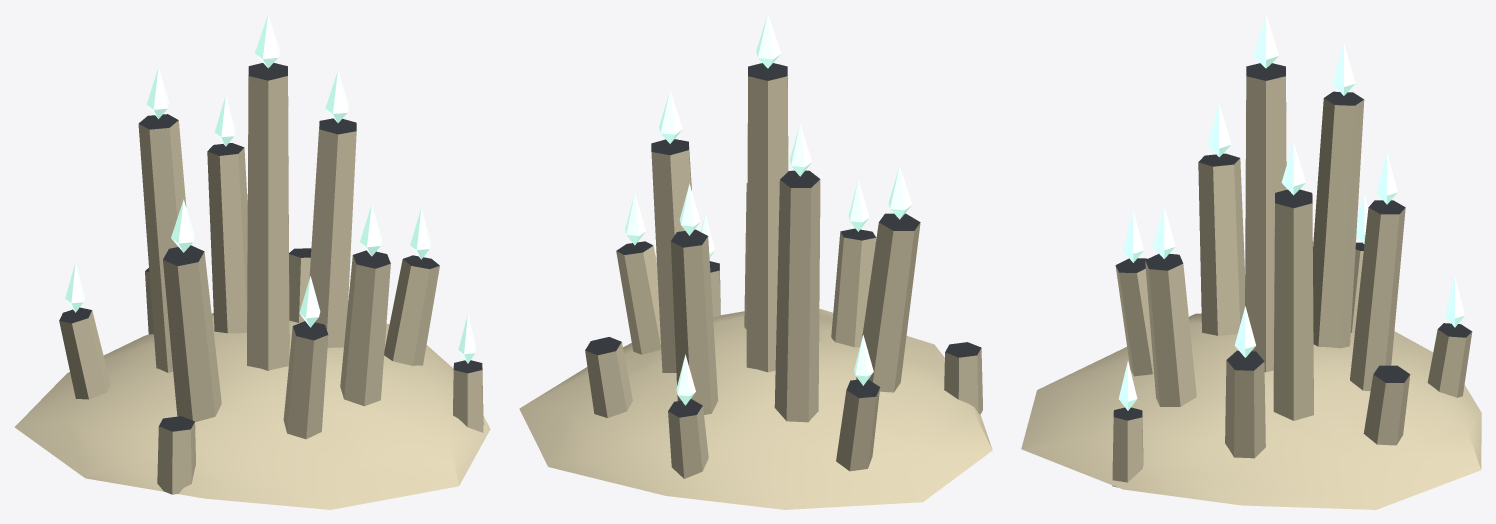
Rendered from CandleClusterLarge.fbx.
3 views of the same model, side by side, from view 1: azimuth 30°, elevation 25°; view 2: azimuth 150°, elevation 25°; view 3: azimuth 270°, elevation 25° (orthographic).
Visible parts, largest first — view 1: CandleClusterLarge; view 2: CandleClusterLarge; view 3: CandleClusterLarge.
Boxes of the visible parts, bbox=[...] form: CandleClusterLarge: bbox=[14, 14, 490, 509]; CandleClusterLarge: bbox=[519, 14, 992, 509]; CandleClusterLarge: bbox=[1021, 14, 1481, 509].
Bounding box in the file's own units: 0.6665 × 0.6461 × 0.667.
